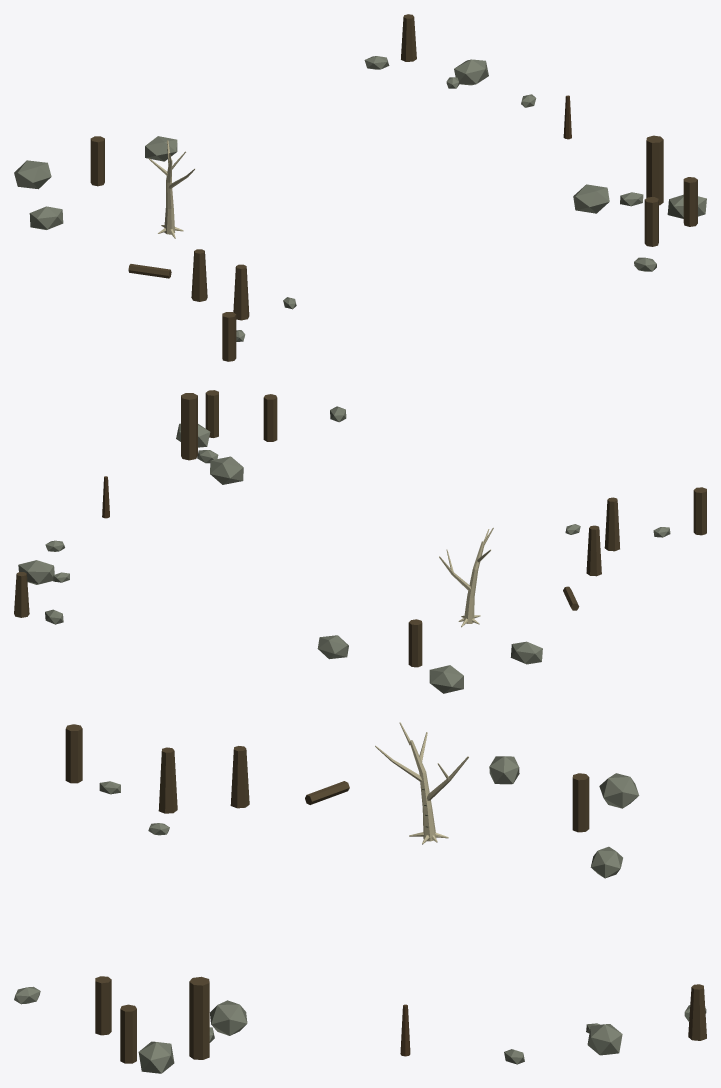
Rendered from longgrass_meadow_solid_props.fbx.
3 renders of one model, top to bottom at view 1: azimuth 30°, elevation 25°; view 2: azimuth 150°, elevation 25°; view 3: azimuth 270°, elevation 25°, orthographic. The views are drawn at different scales.
Visible parts, largest first — view 1: chunk_longgrass_meadow__PropsSolid; view 2: chunk_longgrass_meadow__PropsSolid; view 3: chunk_longgrass_meadow__PropsSolid.
Boxes of the visible parts, box(x1,y1,x2,y2) form: chunk_longgrass_meadow__PropsSolid: box(14, 14, 706, 361); chunk_longgrass_meadow__PropsSolid: box(14, 390, 706, 693); chunk_longgrass_meadow__PropsSolid: box(14, 722, 706, 1073).
Bounding box in the file's own units: 175 × 29.82 × 168.
